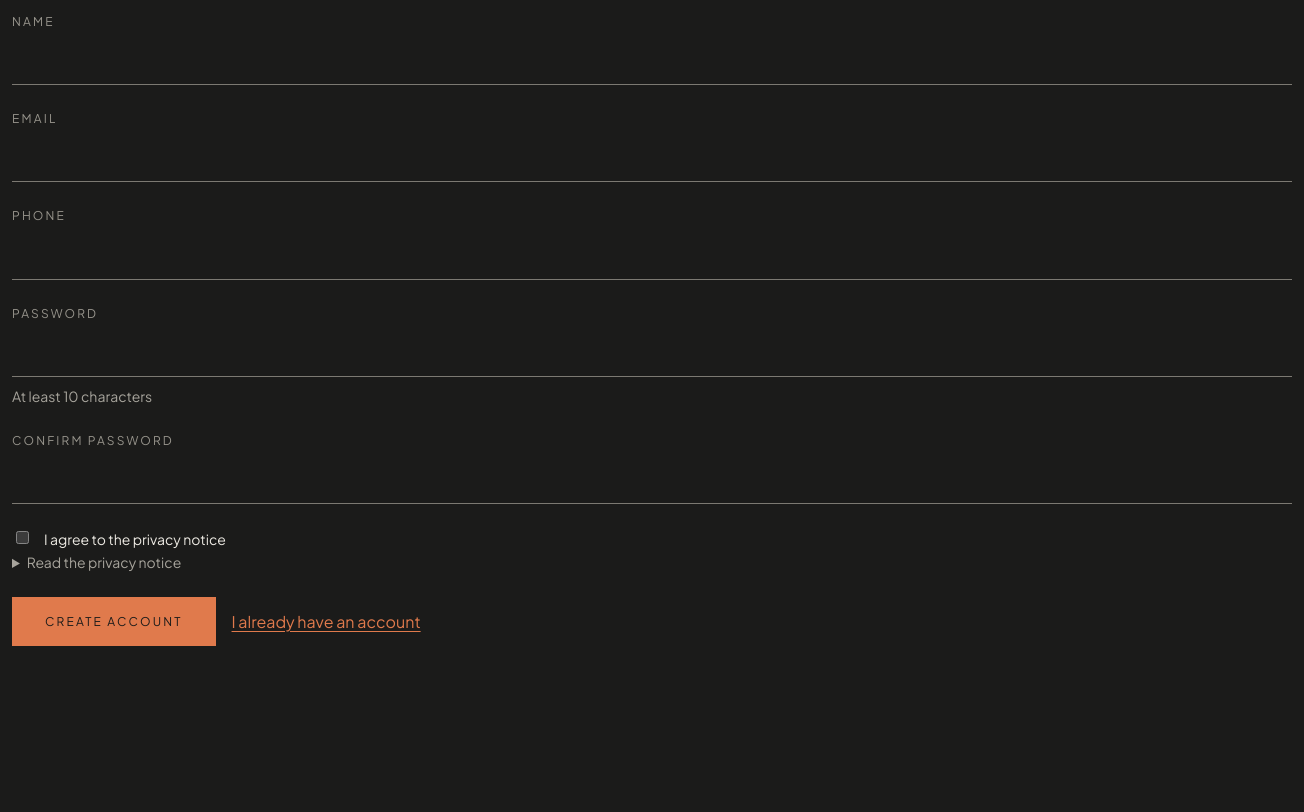
Test: RegisterForm › stays quiet while typing, checks on blur, and keeps the confirmation in step with the password
Type "short" into the password field labelled "Password" at (652, 354), box [12,331,1292,377]
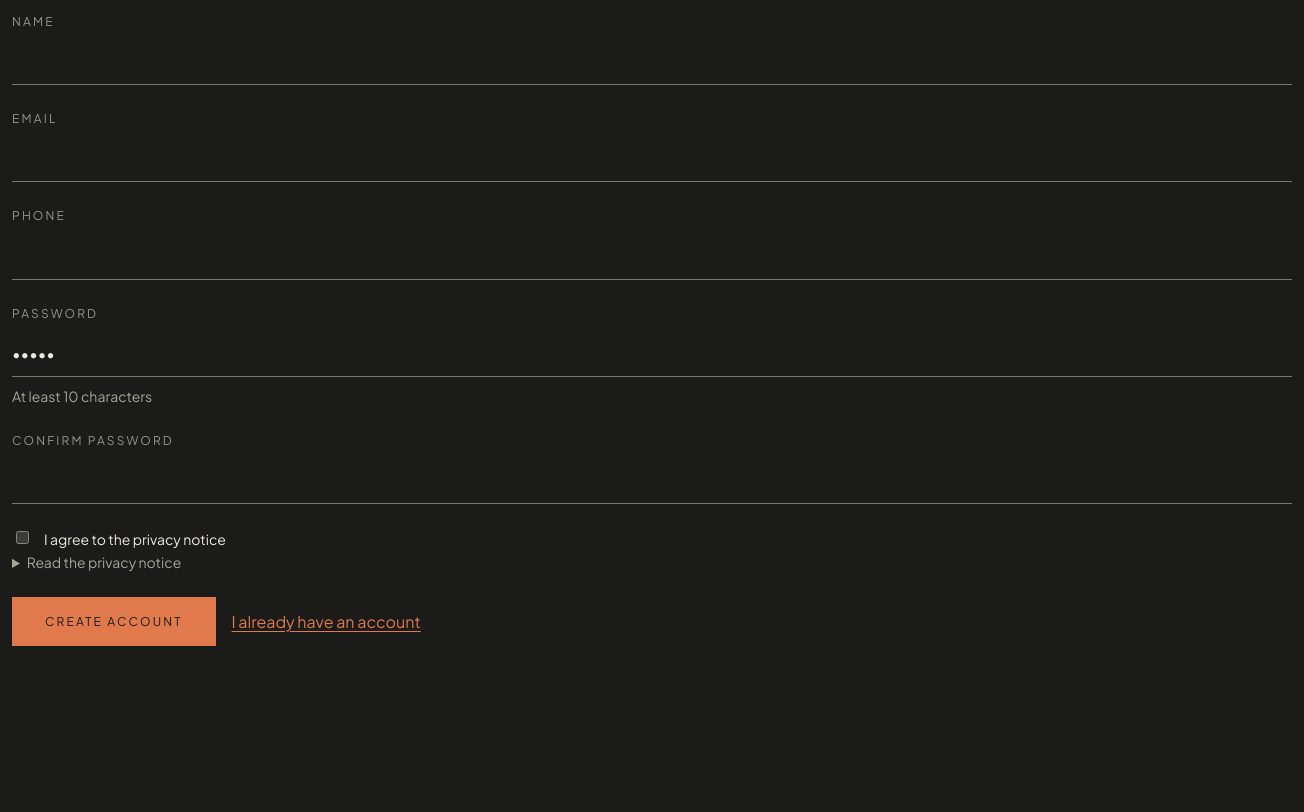
Leave the password field labelled "Password", box [12,331,1292,377]
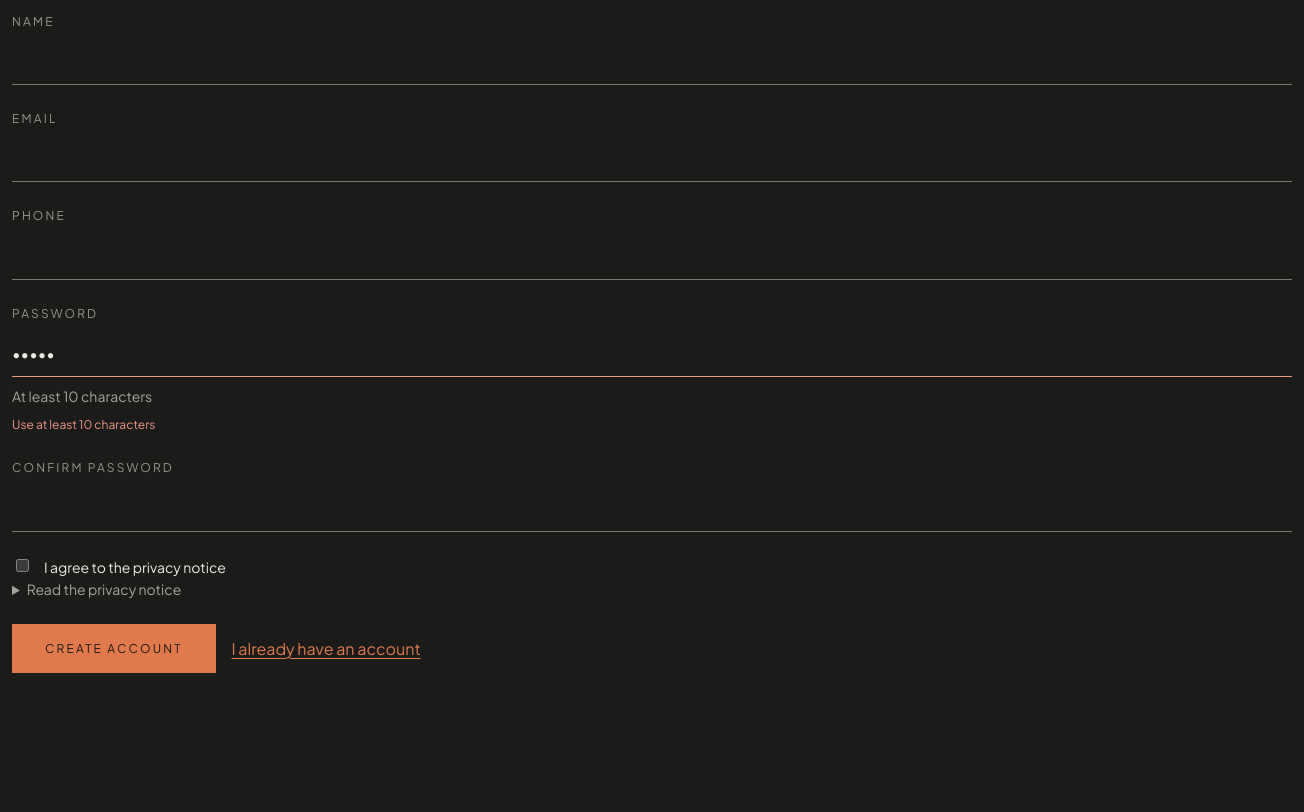
Expected: the text "Use at least 10 characters" is shown, [12,417,155,432]
Type "copper-lantern-42" into the password field labelled "Password" at (652, 354), box [12,331,1292,377]
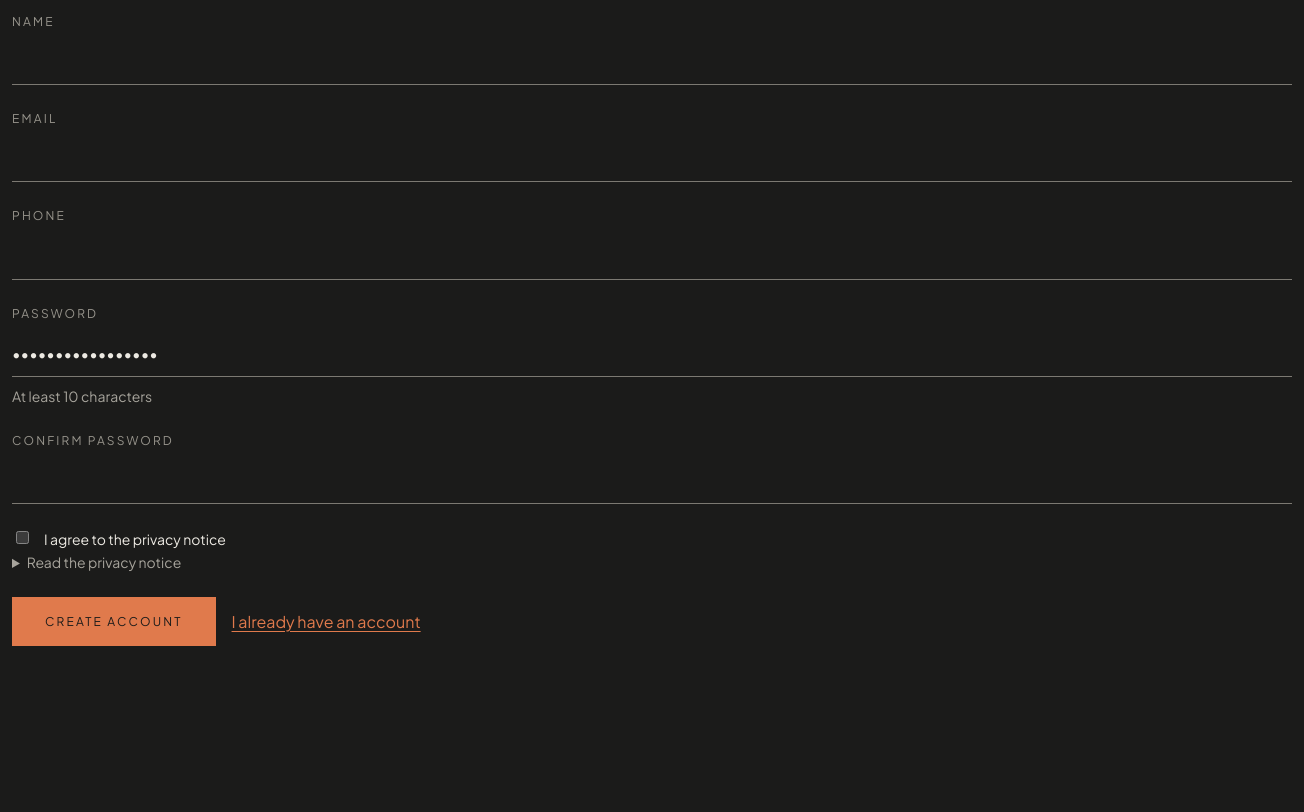
Expected: the text "Use at least 10 characters" is gone
Type "copper-lantern-4" into the password field labelled "Confirm password" at (652, 481), box [12,458,1292,504]
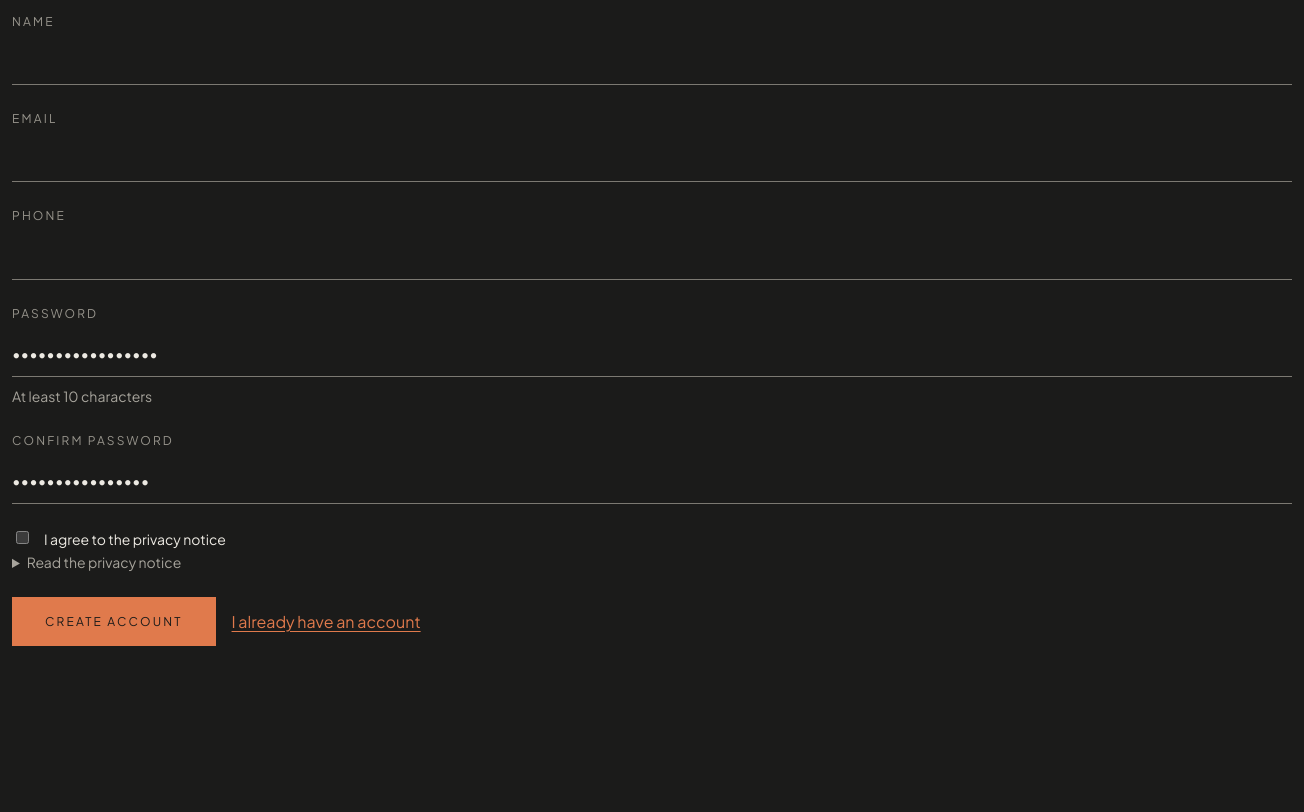
Leave the password field labelled "Confirm password", box [12,458,1292,504]
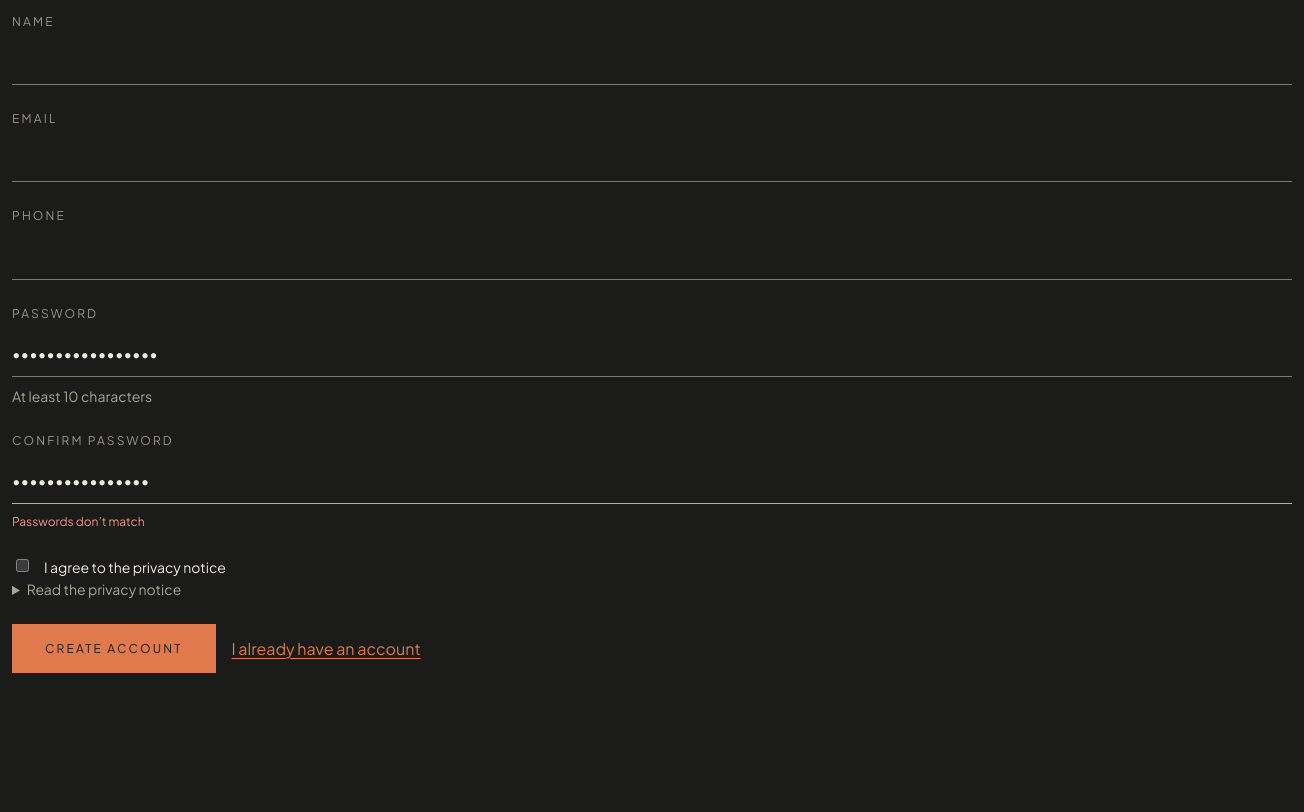
Expected: the text "Passwords don’t match" is shown, [12,514,144,529]
Type "copper-lantern-4" into the password field labelled "Password" at (652, 354), box [12,331,1292,377]
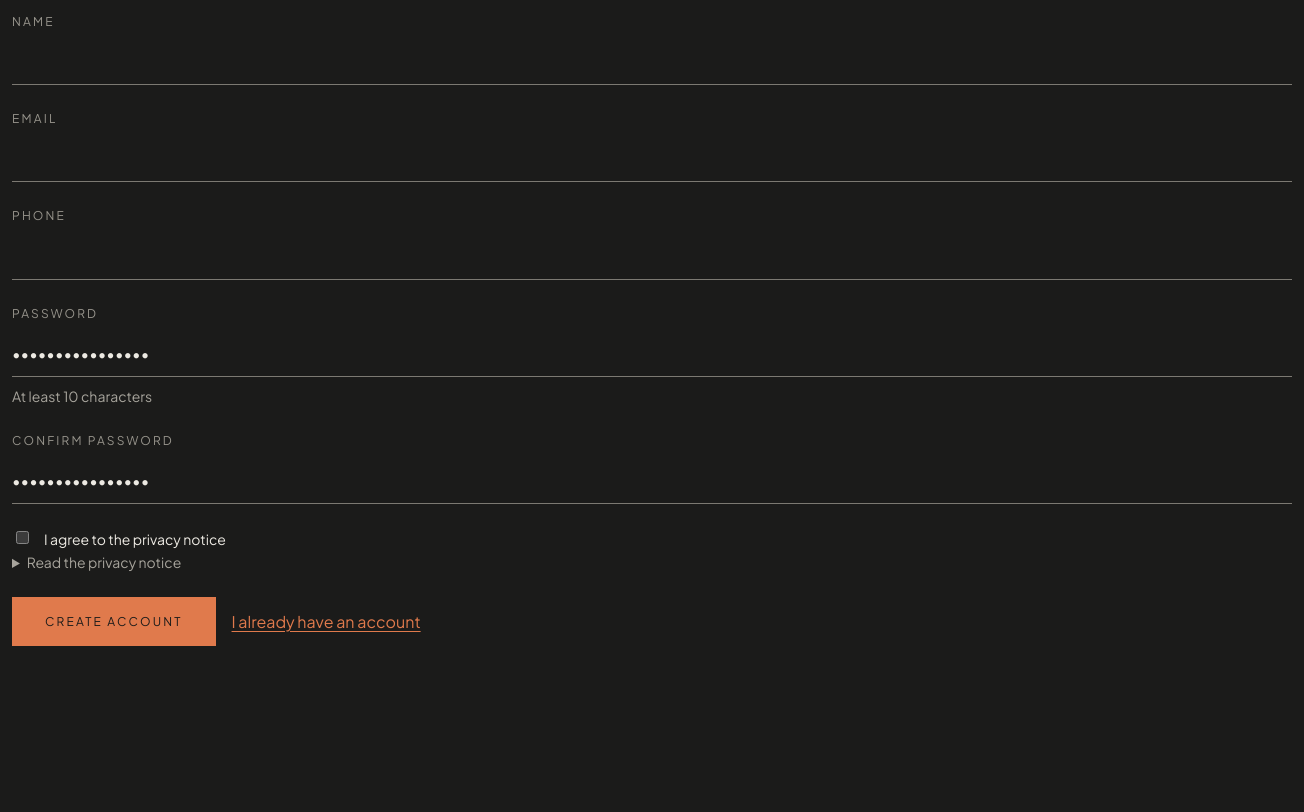
Expected: the text "Passwords don’t match" is gone
